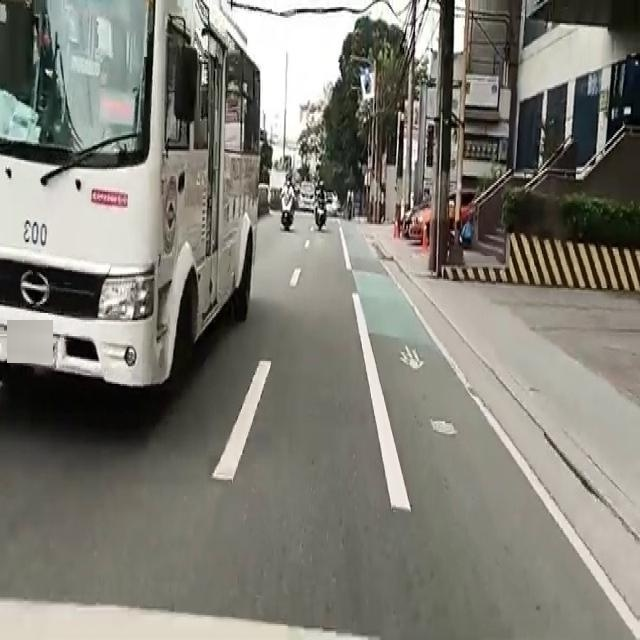bus: (0, 14, 268, 411)
motorcycle: (277, 176, 295, 235), (316, 186, 327, 228)
